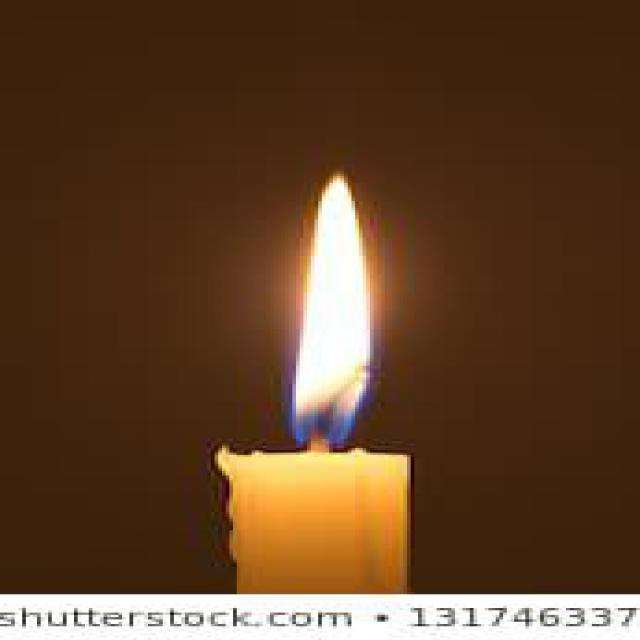Fire: (290, 174, 376, 446)
